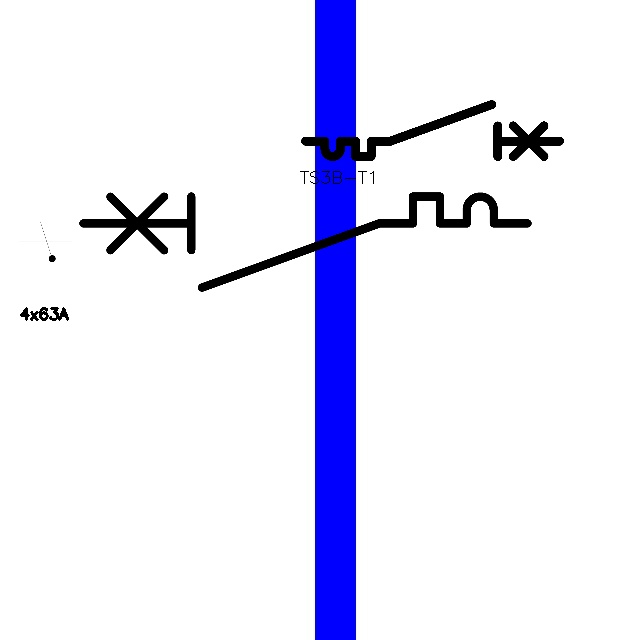interruptor_termomagnetico: (71, 185, 538, 299), (299, 98, 566, 163)
